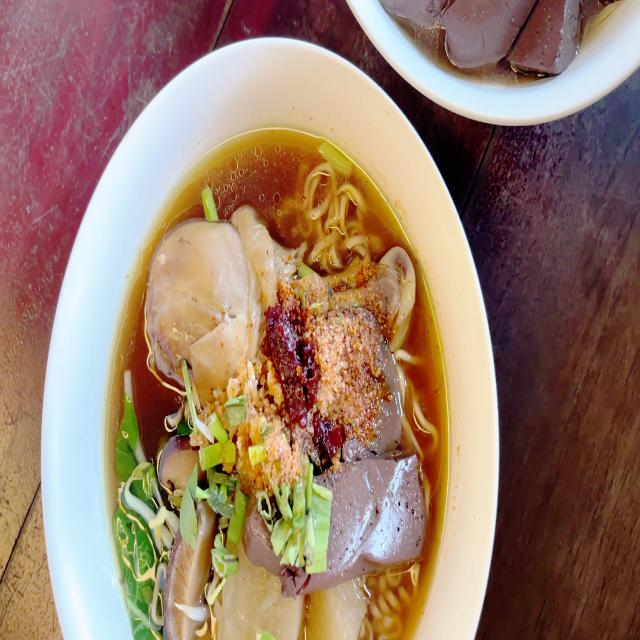boiled_chicken_blood_jelly: (246, 472, 422, 570), (381, 0, 592, 75), (363, 322, 398, 444)
chicken_drumstick: (144, 210, 419, 393)
daikon_radish: (215, 563, 361, 640)
noodle: (141, 173, 406, 640)
